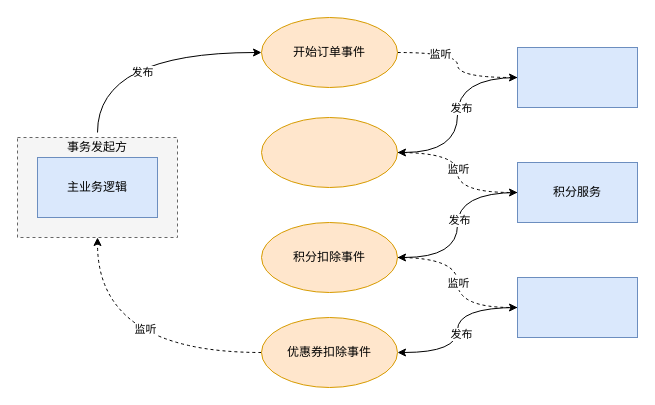
Image size: 655x405. Some labels were removed from this diagram. The box of each missing label's shape, as (x1, y1, x2, y2) in pixels:
优惠券服务: (516, 276, 638, 338)
余额扣除事件: (260, 116, 398, 188)
余额服务: (516, 46, 638, 108)
